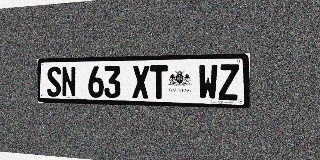3: (104, 66, 120, 98)
6: (88, 66, 104, 98)
N: (61, 66, 76, 97)
S: (47, 67, 61, 97)
T: (150, 65, 168, 99)
W: (198, 64, 218, 100)
X: (132, 65, 149, 99)
Z: (218, 64, 239, 100)
